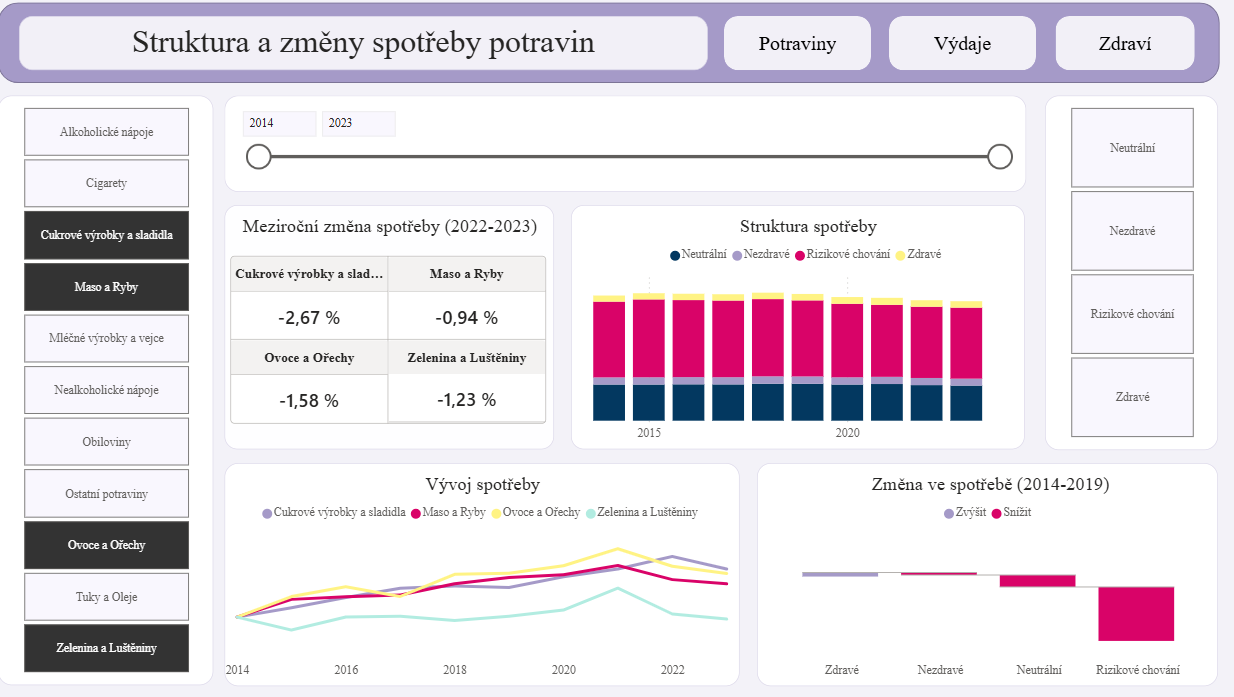

This screenshot's page, from the dashboard's own definition file:
{"tool":"powerbi","page":{"name":"Spotřeba potravin","canvas":[1280,720],"ordinal":1},"visuals":[{"type":"slicer","fields":{"Values":["Fact_Spotreba_Potravin.Kategorie"]},"box":[26.6,107.8,217.3,595.5],"z":0},{"type":"slicer","fields":{"Values":["Dim_Rok.Rok"]},"box":[255.2,107.2,809.3,97.3],"z":1000},{"type":"slicer","fields":{"Values":["Fact_Spotreba_Potravin.Rozdeleni_polozek"]},"box":[1084.3,107.2,174.8,358.1],"z":2000},{"type":"columnChart","title":"Struktura spotřeby","fields":{"Y":["Fact_Spotreba_Potravin.Celkem_spotreba_na_osobu"],"Category":["Fact_Spotreba_Potravin.Rok"],"Series":["Fact_Spotreba_Potravin.Rozdeleni_polozek"]},"box":[606.3,218.5,458.2,246.7],"z":3000},{"type":"lineChart","title":"Vývoj spotřeby","fields":{"Category":["Fact_Spotreba_Potravin.Rok"],"Y":["Fact_Spotreba_Potravin.Index_spotreby_2014"],"Series":["Fact_Spotreba_Potravin.Kategorie"]},"box":[255.2,478,520.3,225.6],"z":4000},{"type":"waterfallChart","title":"Změna ve spotřebě (2014-2019)","fields":{"Y":["Fact_Spotreba_Potravin.Zmena_spotreby_2014–2023"],"Category":["Fact_Spotreba_Potravin.Rozdeleni_polozek"]},"box":[793.8,478,465.3,225.6],"z":5000},{"type":"cardVisual","title":"Meziroční změna spotřeby (2022-2023)","fields":{"Data":["Fact_Spotreba_Potravin.Mezirocni_zmena_spotřeby"],"Rows":["Fact_Spotreba_Potravin.Kategorie"]},"box":[255.2,218.5,332.7,246.7],"z":6000},{"type":"shape","box":[26.6,14.1,1233.2,81.3],"z":7000},{"type":"textbox","box":[48.5,26.6,695.5,54.7],"z":8000},{"type":"actionButton","box":[759.6,26.6,148.5,54.7],"z":9000},{"type":"actionButton","box":[926.9,26.6,148.5,54.7],"z":10000},{"type":"actionButton","box":[1094.1,26.6,140.7,54.7],"z":11000}]}

Visuals, with their boxes in screenshot pixels (x1, y1, x2, y2), scaled from the page's 1280x720 canvas onto the 1234x697 screenshot:
slicer - Fact_Spotreba_Potravin.Kategorie: bbox(26, 104, 235, 681)
slicer - Dim_Rok.Rok: bbox(246, 104, 1026, 198)
slicer - Fact_Spotreba_Potravin.Rozdeleni_polozek: bbox(1045, 104, 1214, 450)
"Struktura spotřeby" columnChart: bbox(585, 212, 1026, 450)
"Vývoj spotřeby" lineChart: bbox(246, 463, 748, 681)
"Změna ve spotřebě (2014-2019)" waterfallChart: bbox(765, 463, 1214, 681)
"Meziroční změna spotřeby (2022-2023)" cardVisual: bbox(246, 212, 567, 450)
shape: bbox(26, 14, 1215, 92)
textbox: bbox(47, 26, 717, 79)
actionButton: bbox(732, 26, 875, 79)
actionButton: bbox(894, 26, 1037, 79)
actionButton: bbox(1055, 26, 1190, 79)
